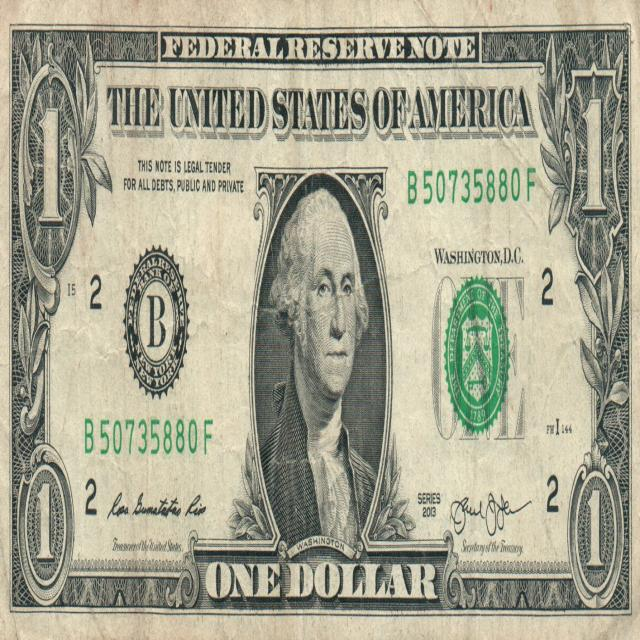SerialNumber: (408, 167, 535, 205), (85, 418, 212, 455)
